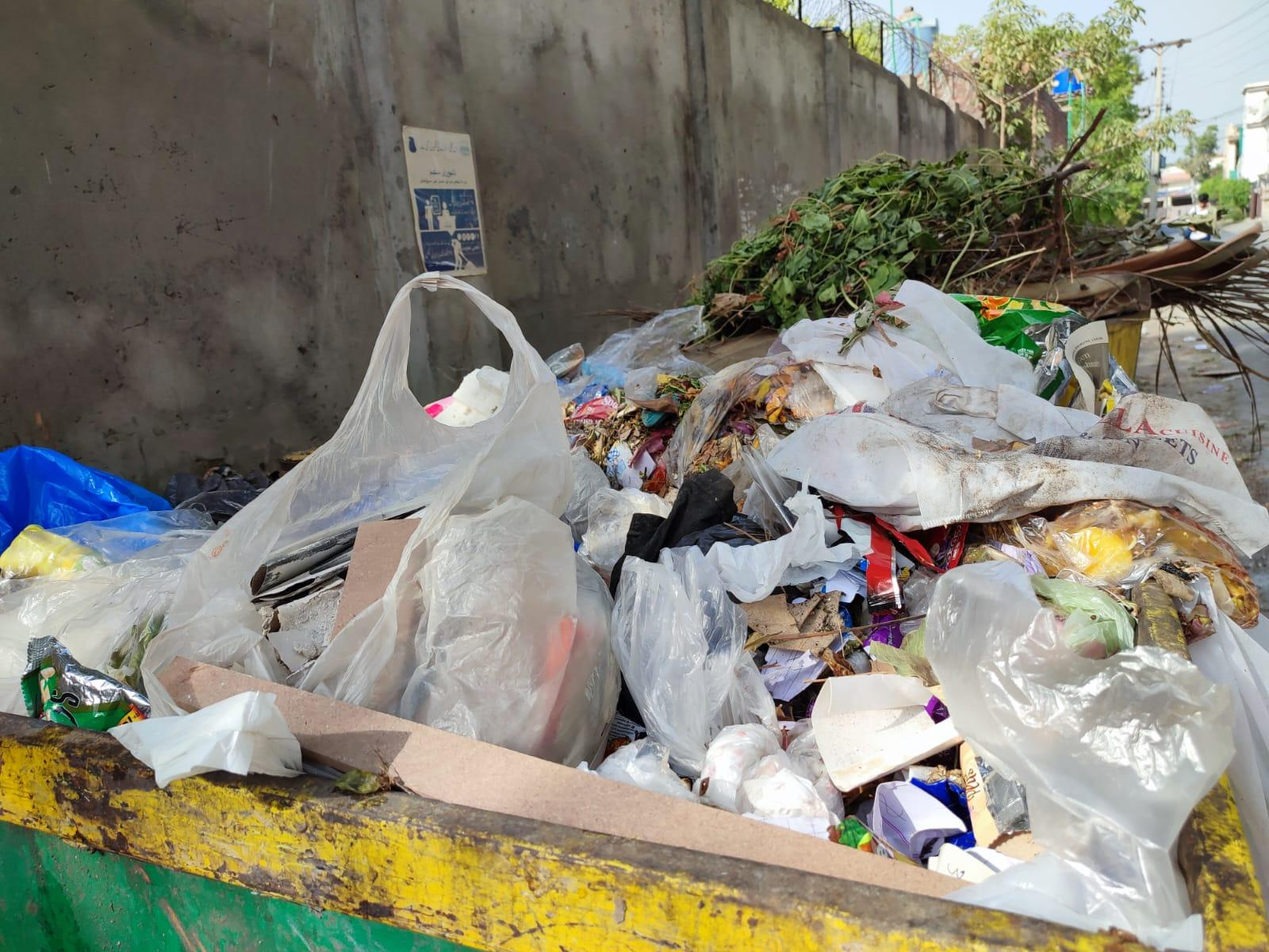garbage: (0, 257, 1269, 888)
